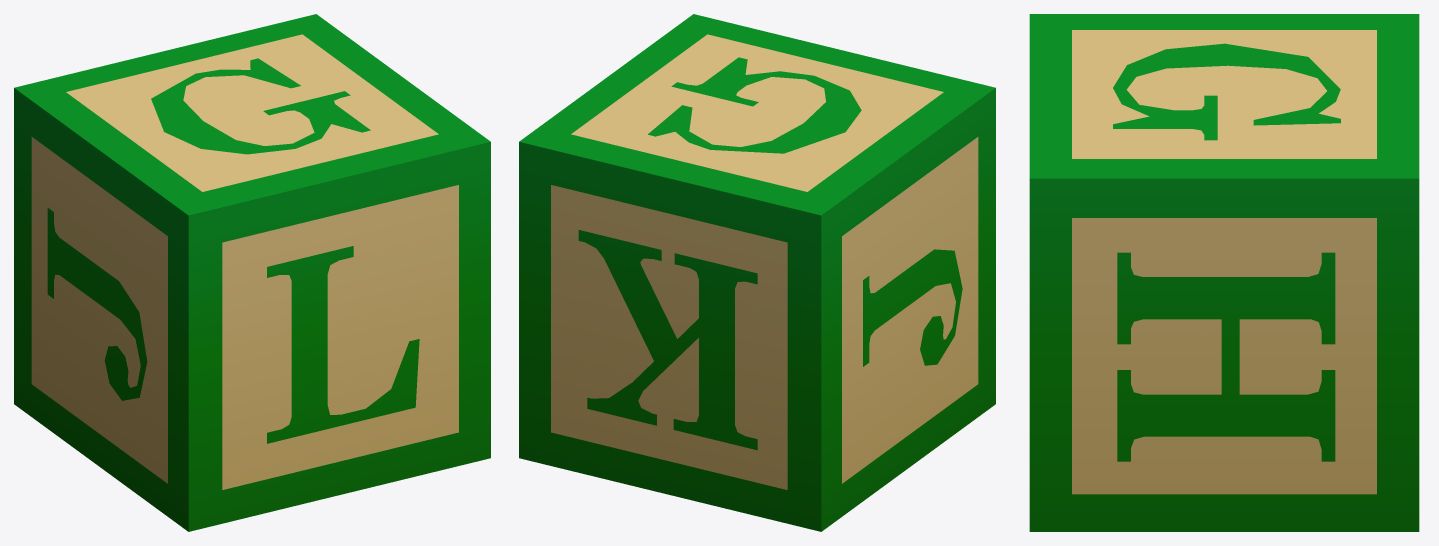
The model's file is cube_GHIJKL.fbx.
3 views of the same model, side by side, from view 1: azimuth 30°, elevation 25°; view 2: azimuth 150°, elevation 25°; view 3: azimuth 270°, elevation 25° (orthographic). The views are drawn at different scales.
Parts seen in each view (by area): view 1: cube_GHIJKL; view 2: cube_GHIJKL; view 3: cube_GHIJKL.
Part boxes in pixels (box(x1,y1,x2,y2)): cube_GHIJKL: box(14, 14, 490, 531); cube_GHIJKL: box(519, 14, 995, 531); cube_GHIJKL: box(1029, 14, 1419, 531).
Bounding box in the file's own units: 6.53 × 6.53 × 6.53.
